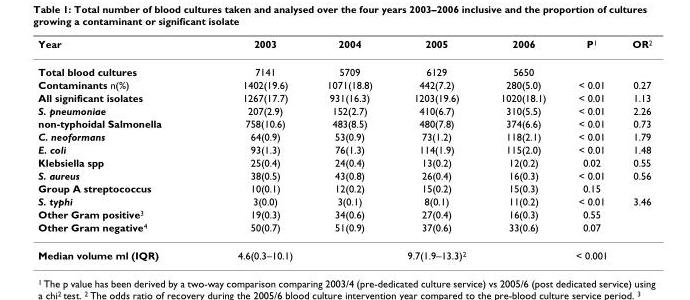table: (37, 37, 651, 260)
table column: (37, 37, 198, 260), (198, 37, 309, 260), (389, 37, 482, 260), (309, 37, 389, 260), (482, 37, 560, 260), (560, 37, 619, 260), (619, 37, 651, 260)
table column header: (37, 37, 651, 57)
table row: (37, 37, 651, 57), (37, 57, 651, 77), (37, 220, 651, 240), (37, 240, 651, 260), (37, 77, 651, 90), (37, 90, 651, 103), (37, 103, 651, 116), (37, 116, 651, 129), (37, 129, 651, 142), (37, 142, 651, 155), (37, 155, 651, 168), (37, 168, 651, 181), (37, 181, 651, 194), (37, 194, 651, 207), (37, 207, 651, 220)
